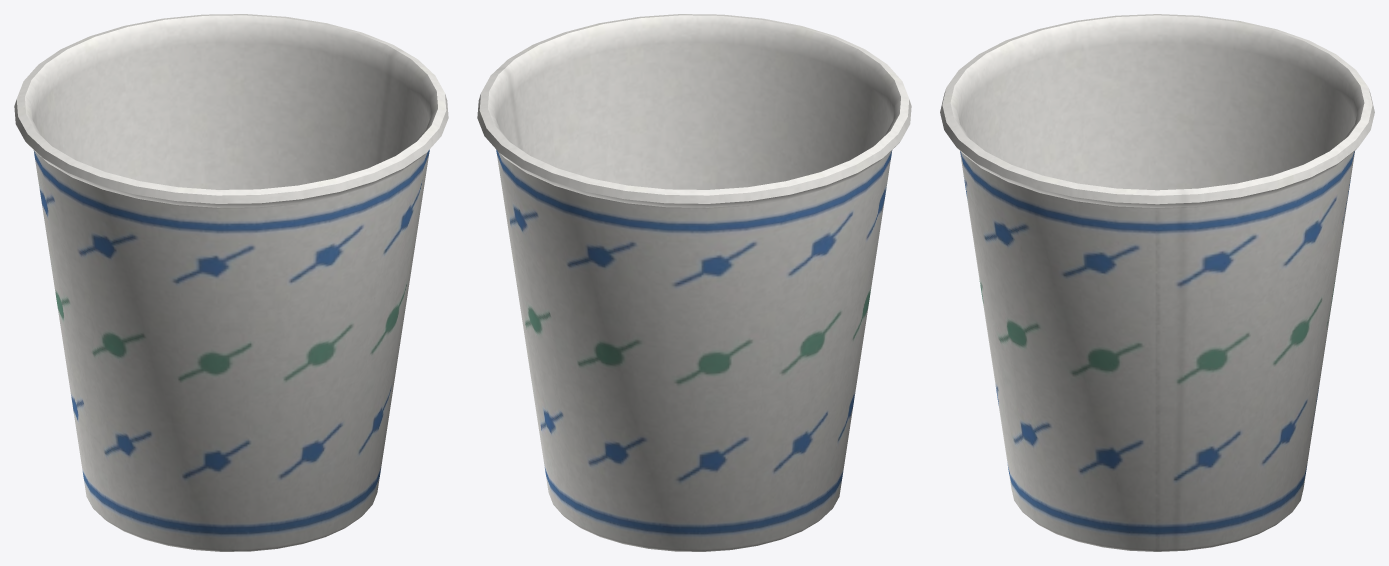
File: papercup.glb
3 renders of one model, left to right at view 1: azimuth 30°, elevation 25°; view 2: azimuth 150°, elevation 25°; view 3: azimuth 270°, elevation 25°, orthographic.
Parts seen in each view (by area): view 1: papercup_mesh; view 2: papercup_mesh; view 3: papercup_mesh.
Boxes of the visible parts, x1,y1,x2,y2 form: papercup_mesh: (14, 14, 448, 551); papercup_mesh: (477, 14, 911, 551); papercup_mesh: (940, 14, 1374, 551).
Size of the model in its own units: 0.0744 by 0.0734 by 0.0744.
1 material, 1 textured.
